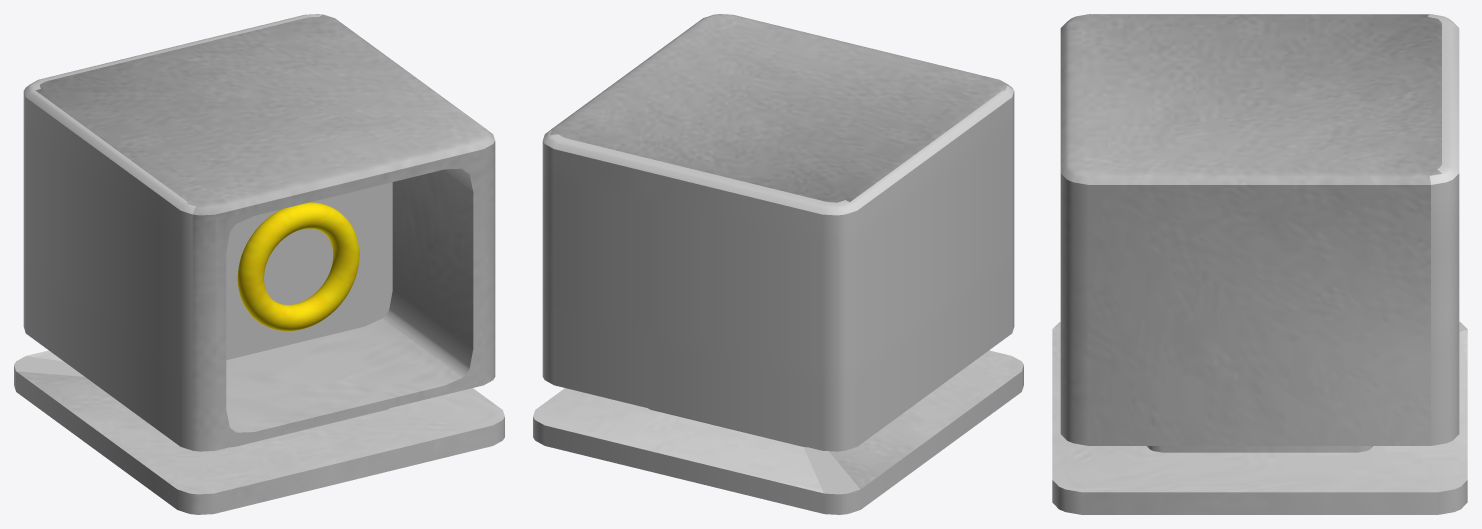
The model's file is ring_monitor.obj.
The picture shows the model from 3 angles, left to right: view 1: azimuth 30°, elevation 25°; view 2: azimuth 150°, elevation 25°; view 3: azimuth 270°, elevation 25°; orthographic projection. The views are drawn at different scales.
Parts seen in each view (by area): view 1: CAJA, RING; view 2: CAJA; view 3: CAJA.
Boxes of the visible parts, x1,y1,x2,y2 form: CAJA: (14, 14, 504, 514); RING: (237, 202, 359, 330); CAJA: (533, 14, 1023, 514); CAJA: (1052, 14, 1467, 514).
Size of the model in its own units: 2 by 1.77 by 2.
